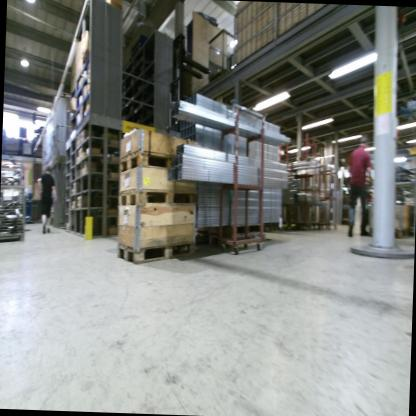pallet: (117, 237, 197, 268), (115, 187, 196, 212), (119, 147, 191, 172), (390, 230, 408, 240)
stillage: (0, 188, 30, 247), (204, 28, 234, 77), (1, 165, 28, 191)
